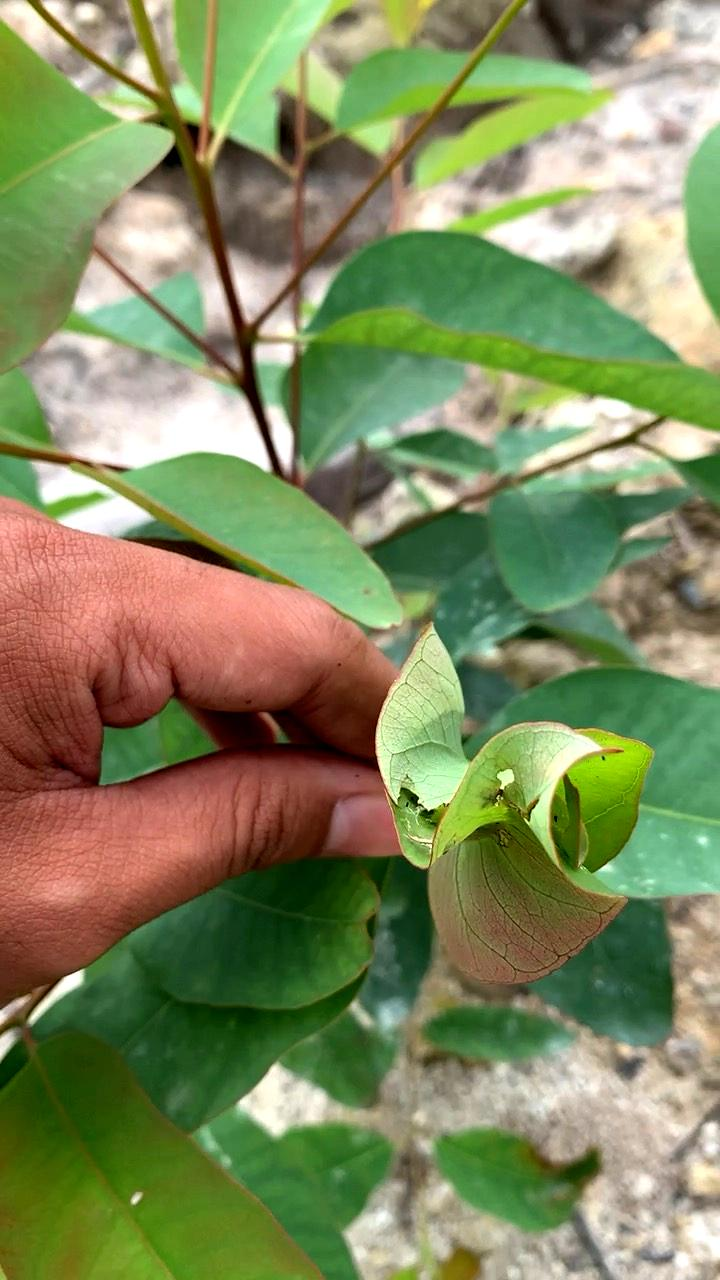Leaf Roller - Leaf: (352, 583, 663, 1000)
